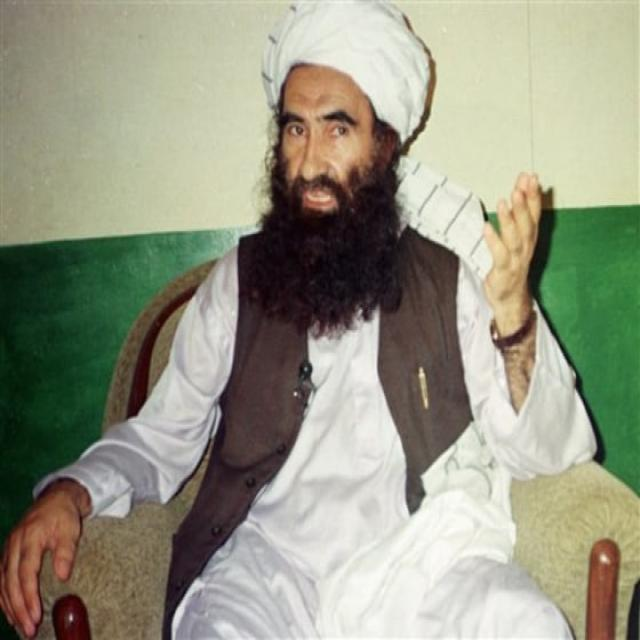Militant: (119, 7, 581, 640)
